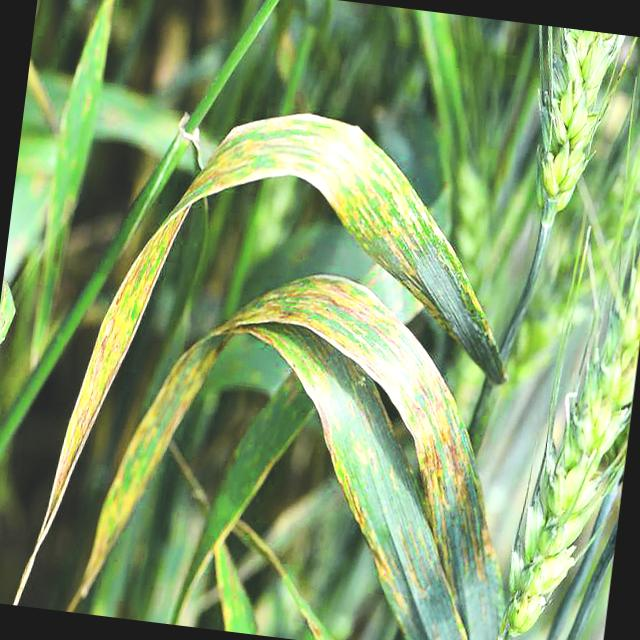leaf_blight: (144, 113, 505, 383)
